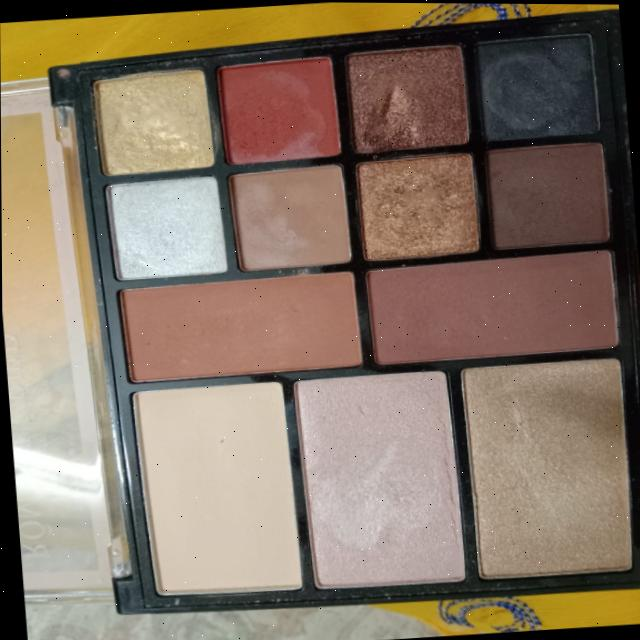bronzer: (85, 237, 640, 397)
eye shade: (74, 24, 630, 296)
highlighter: (119, 339, 640, 621)
